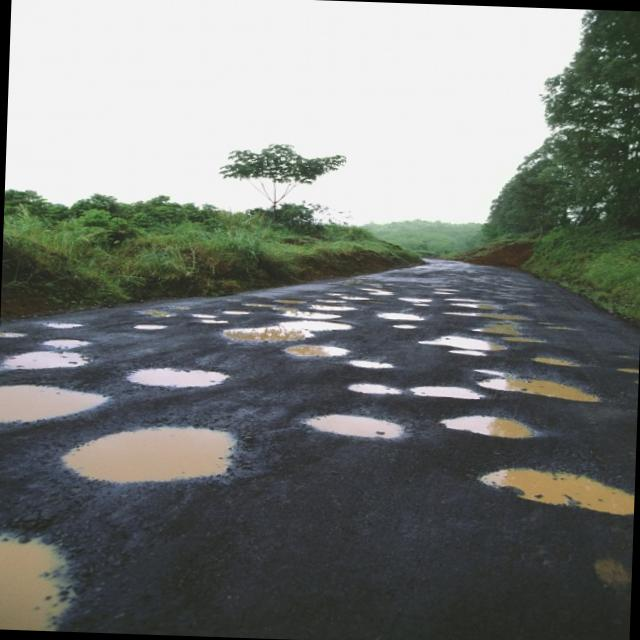Potholes: (49, 418, 271, 488), (479, 455, 635, 532), (0, 517, 93, 632), (0, 376, 113, 446), (225, 300, 346, 350), (292, 403, 412, 451), (466, 369, 605, 408), (432, 401, 543, 442), (118, 366, 233, 400), (4, 336, 101, 371), (446, 290, 528, 328), (420, 331, 508, 358), (408, 378, 484, 404), (278, 338, 362, 361), (587, 550, 632, 590), (341, 379, 415, 401), (376, 306, 427, 331), (526, 351, 589, 369), (344, 353, 400, 373), (124, 318, 178, 338), (188, 309, 229, 325)
